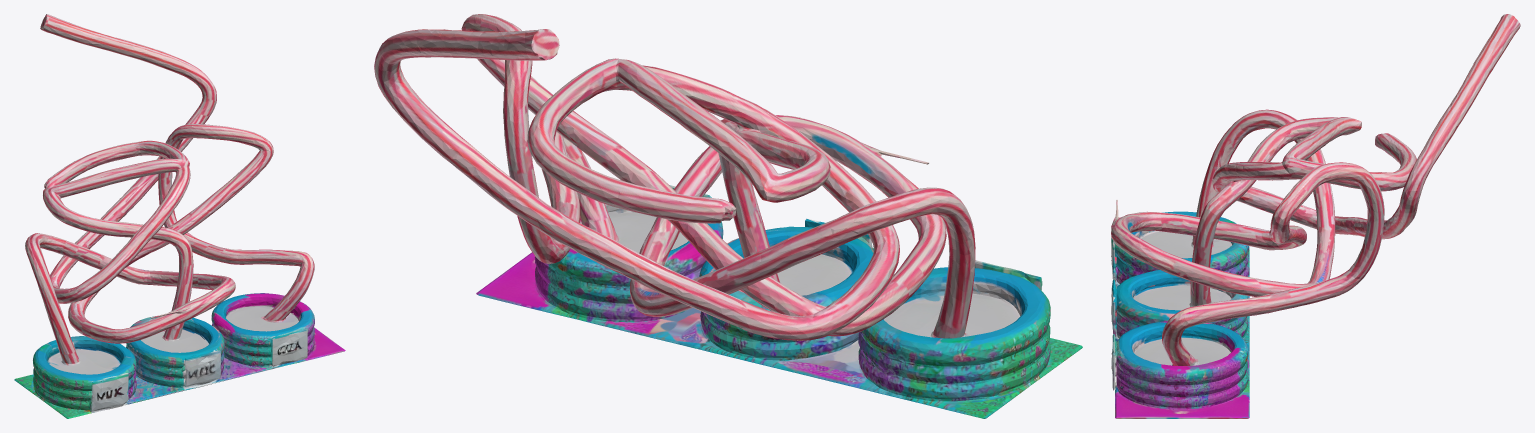
3 views of the same model, side by side, from view 1: azimuth 30°, elevation 25°; view 2: azimuth 150°, elevation 25°; view 3: azimuth 270°, elevation 25° (orthographic). The views are drawn at different scales.
Visible parts, largest first — view 1: textured_mesh.obj; view 2: textured_mesh.obj; view 3: textured_mesh.obj.
Boxes of the visible parts, x1,y1,x2,y2 form: textured_mesh.obj: [14, 14, 345, 418]; textured_mesh.obj: [374, 14, 1082, 418]; textured_mesh.obj: [1111, 14, 1520, 418].
Bounding box in the file's own units: 1.95 × 1.71 × 1.98.
Materials: 1 (1 with a texture image).
